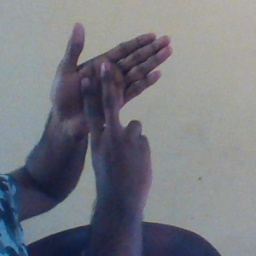N: (45, 20, 179, 196)
